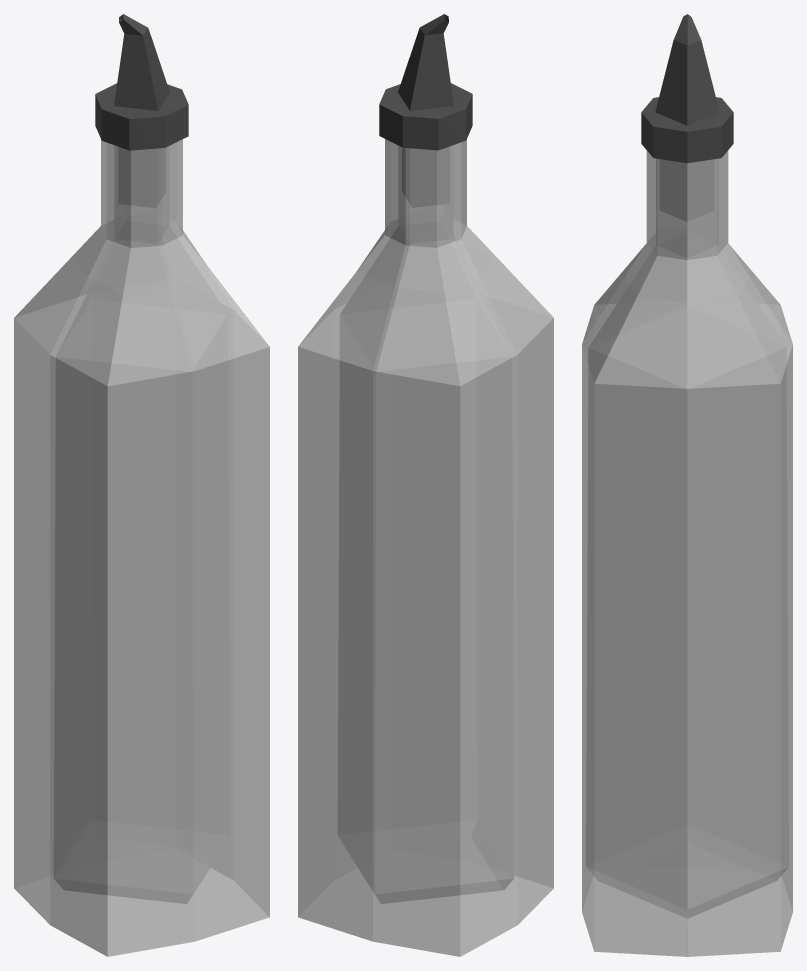
Rendered from SM_Oil_02.fbx.
3 renders of one model, left to right at view 1: azimuth 30°, elevation 25°; view 2: azimuth 150°, elevation 25°; view 3: azimuth 270°, elevation 25°, orthographic.
Parts seen in each view (by area): view 1: SM_Oil_02, SM_Pinggai_02; view 2: SM_Oil_02, SM_Pinggai_02; view 3: SM_Oil_02, SM_Pinggai_02.
Boxes of the visible parts, <box> form: SM_Oil_02: <box>14,139,269,956</box>; SM_Pinggai_02: <box>95,14,188,207</box>; SM_Oil_02: <box>298,139,553,956</box>; SM_Pinggai_02: <box>379,14,472,206</box>; SM_Oil_02: <box>582,150,792,956</box>; SM_Pinggai_02: <box>641,14,733,221</box>.
Bounding box in the file's own units: 6.79 × 31.57 × 6.79.
